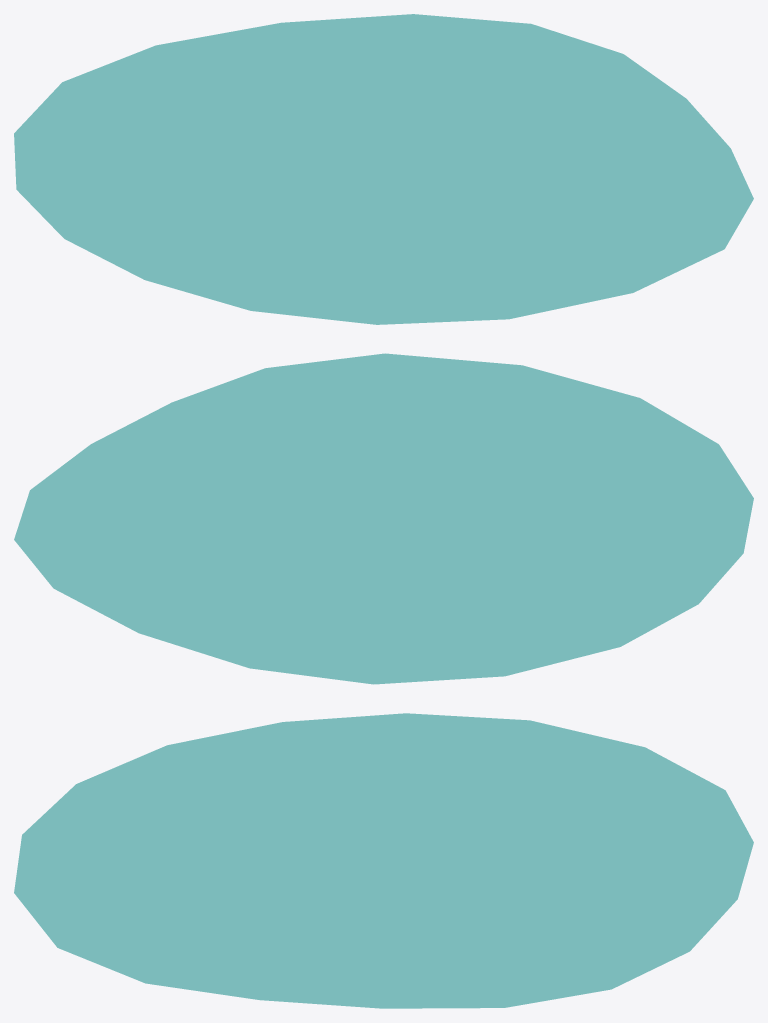
Rendered from DeathParadePlanetWater.fbx.
The picture shows the model from 3 angles, top to bottom: view 1: azimuth 30°, elevation 25°; view 2: azimuth 150°, elevation 25°; view 3: azimuth 270°, elevation 25°; orthographic projection. The views are drawn at different scales.
Parts seen in each view (by area): view 1: DeathParadePlanetWater; view 2: DeathParadePlanetWater; view 3: DeathParadePlanetWater.
Boxes of the visible parts, x1,y1,x2,y2 form: DeathParadePlanetWater: [14, 14, 753, 324]; DeathParadePlanetWater: [14, 353, 753, 684]; DeathParadePlanetWater: [14, 713, 753, 1008].
Size of the model in its own units: 91912 by 0.0159 by 97289.
